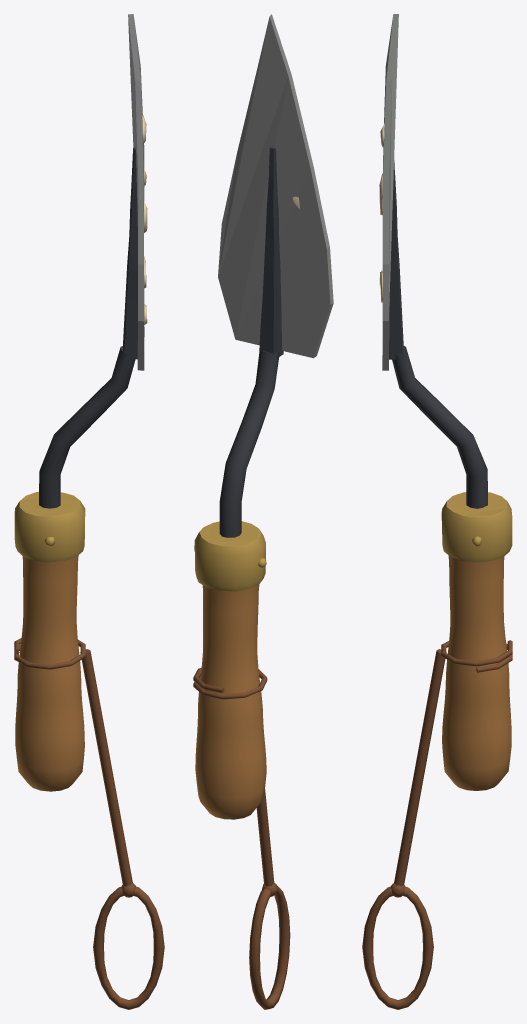
File: tool_trowel.fbx
3 renders of one model, left to right at view 1: azimuth 90°, elevation 25°; view 2: azimuth 150°, elevation 25°; view 3: azimuth 270°, elevation 25°, orthographic.
Parts seen in each view (by area): view 1: Tool_Trowel_Handle, Tool_Trowel_Thong, Tool_Trowel_Shank, Tool_Trowel_Ferrule, Tool_Trowel_Blade, Tool_Trowel_Mortar; view 2: Tool_Trowel_Blade, Tool_Trowel_Handle, Tool_Trowel_Shank, Tool_Trowel_Thong, Tool_Trowel_Ferrule; view 3: Tool_Trowel_Handle, Tool_Trowel_Thong, Tool_Trowel_Shank, Tool_Trowel_Ferrule, Tool_Trowel_Blade.
Part boxes in pixels (x1,y1,x2,y2): Tool_Trowel_Handle: (15,555,84,791); Tool_Trowel_Thong: (14,638,164,1009); Tool_Trowel_Shank: (39,147,137,508); Tool_Trowel_Ferrule: (14,491,85,562); Tool_Trowel_Blade: (128,14,144,370); Tool_Trowel_Mortar: (137,115,147,324); Tool_Trowel_Blade: (218,14,333,358); Tool_Trowel_Handle: (195,585,266,819); Tool_Trowel_Shank: (219,147,283,537); Tool_Trowel_Thong: (193,667,290,1009); Tool_Trowel_Ferrule: (194,521,266,591); Tool_Trowel_Handle: (442,555,511,790); Tool_Trowel_Thong: (362,640,512,1009); Tool_Trowel_Shank: (389,160,487,508); Tool_Trowel_Ferrule: (441,492,512,562); Tool_Trowel_Blade: (382,14,398,370).
Size of the model in its own units: 8.61 by 72.37 by 9.91.
